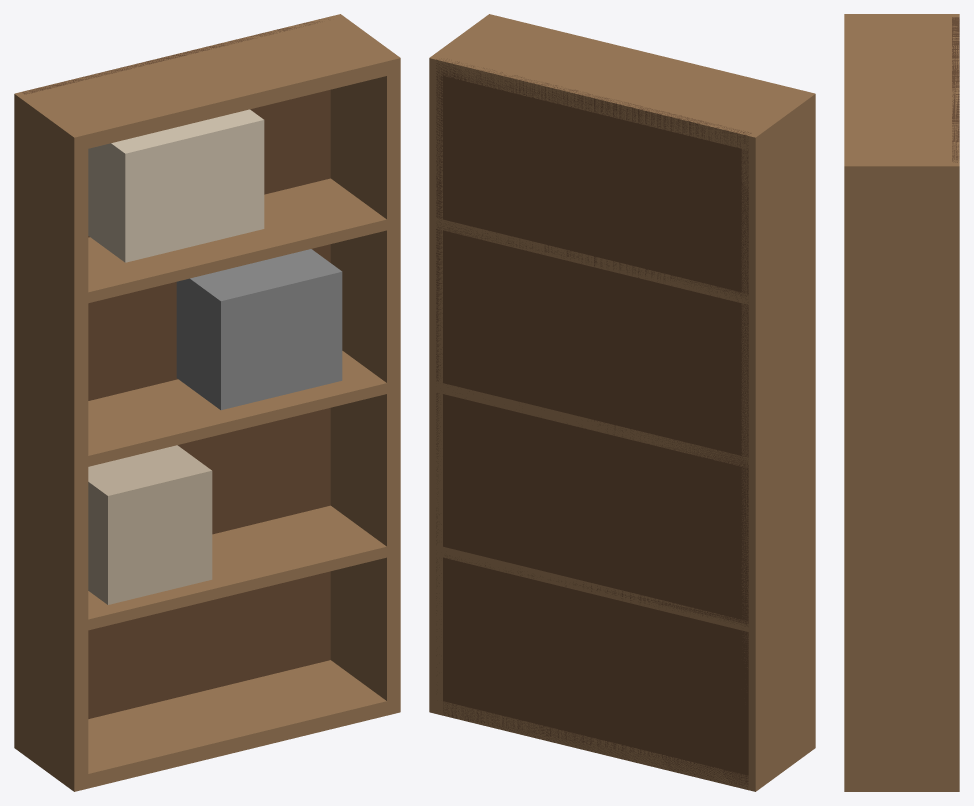
Rendered from bookshelf.glb.
3 views of the same model, side by side, from view 1: azimuth 30°, elevation 25°; view 2: azimuth 150°, elevation 25°; view 3: azimuth 270°, elevation 25° (orthographic). The views are drawn at different scales.
Parts seen in each view (by area): view 1: bookshelf; view 2: bookshelf; view 3: bookshelf.
Part boxes in pixels (x1=…): bookshelf: x1=14, y1=14, x2=400, y2=791; bookshelf: x1=429, y1=14, x2=815, y2=791; bookshelf: x1=844, y1=14, x2=959, y2=791.
Bounding box in the file's own units: 0.94 × 1.8 × 0.3.
